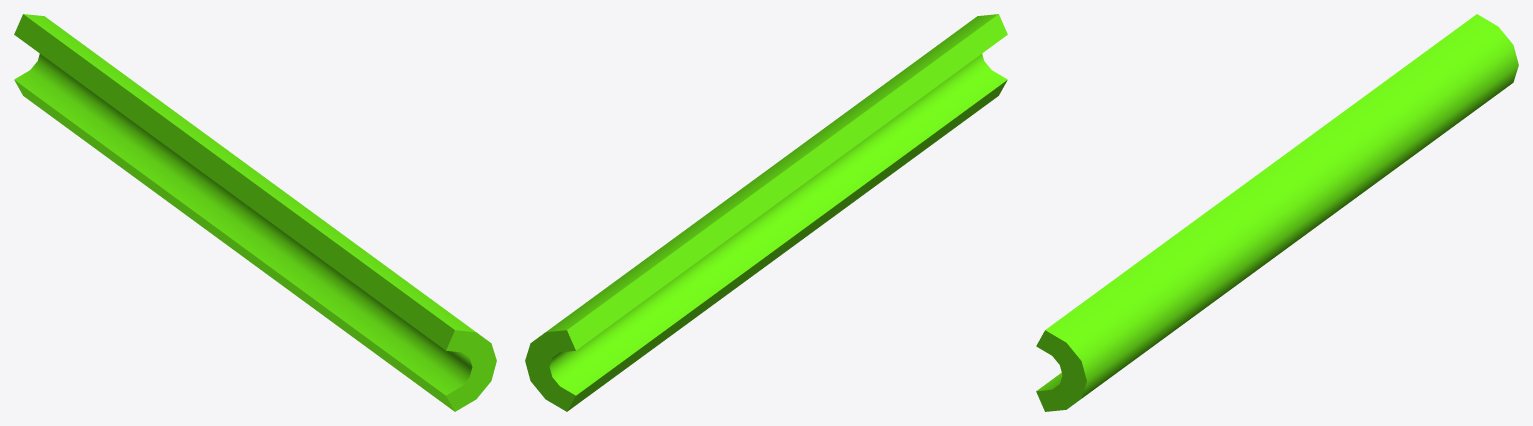
The model's file is CeleryStick.obj.
3 renders of one model, left to right at view 1: azimuth 30°, elevation 25°; view 2: azimuth 150°, elevation 25°; view 3: azimuth 330°, elevation 25°, orthographic.
Parts seen in each view (by area): view 1: celeryStick; view 2: celeryStick; view 3: celeryStick.
Part boxes in pixels (bbox=[...]): celeryStick: bbox=[14, 14, 496, 411]; celeryStick: bbox=[525, 14, 1007, 411]; celeryStick: bbox=[1036, 14, 1518, 411].
Bounding box in the file's own units: 0.0147 × 0.0226 × 0.216.
